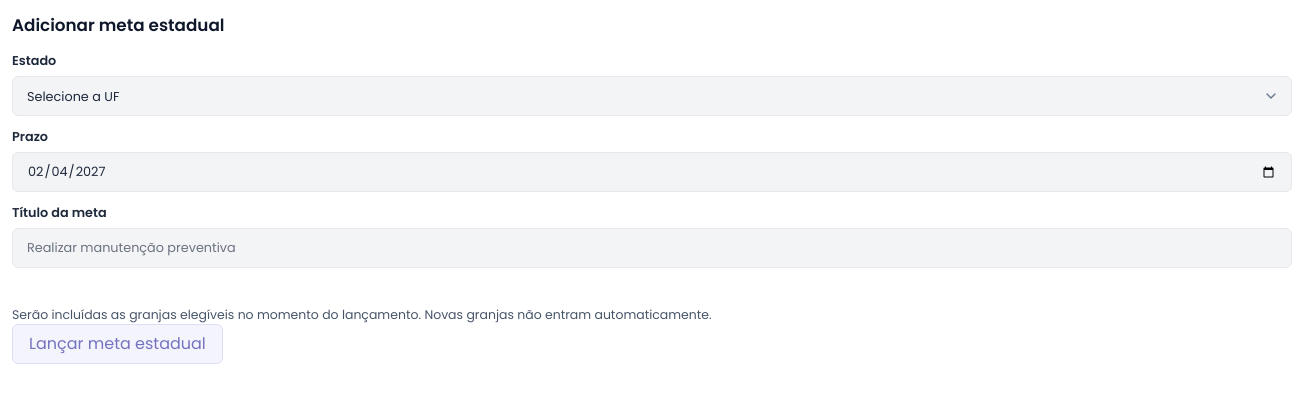
Test: prevê público e informa a quantidade efetivamente vinculada retornada pelo servidor
Step 1. Type "Economizar água" into the field labelled "Título da meta" → (652, 248), box x1=12 y1=228 x2=1292 y2=268
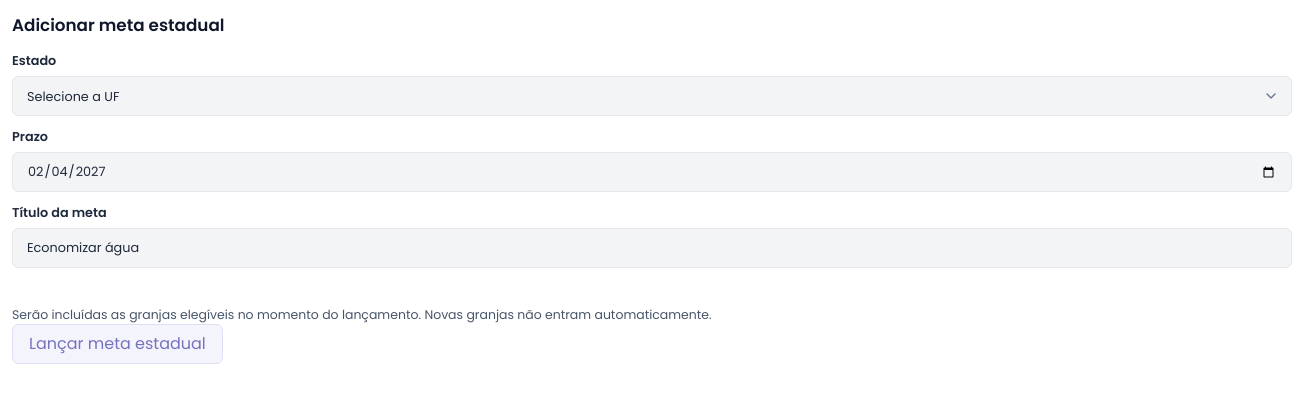
Step 2. Type "2099-01-01" into the date field labelled "Prazo" → (652, 172), box x1=12 y1=152 x2=1292 y2=192
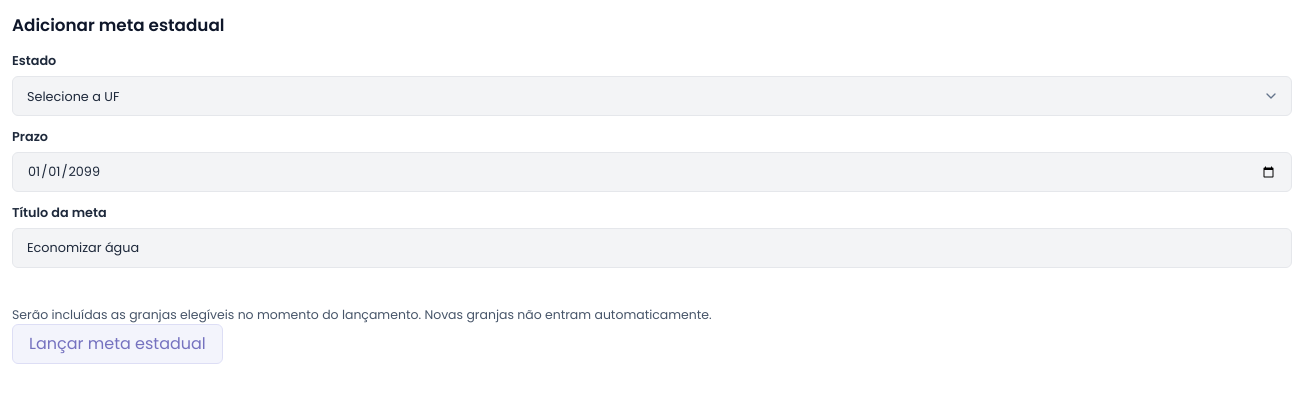
Step 3. Select "São Paulo (SP)" in the dropdown labelled "Estado" → (652, 96), box x1=12 y1=76 x2=1292 y2=116
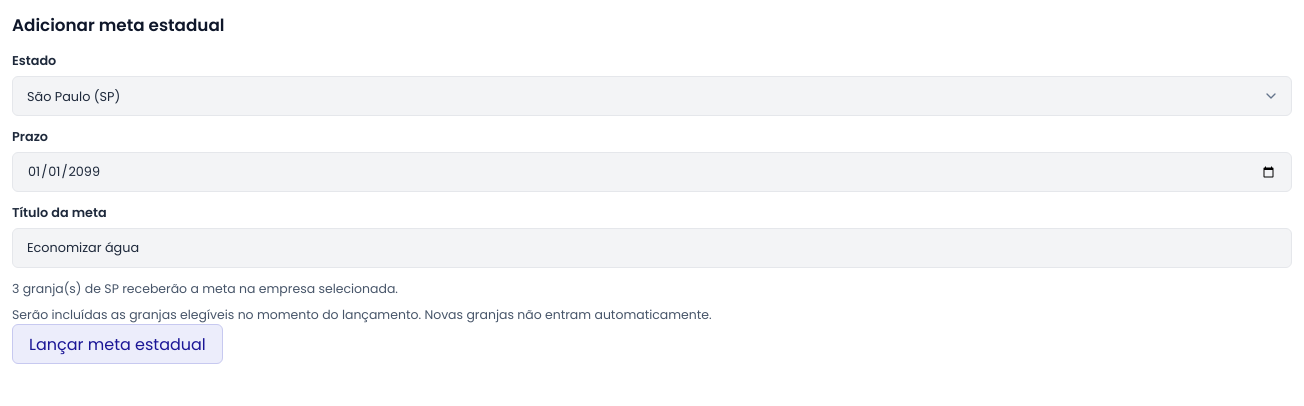
Check: the text "3 granja(s) de SP receberão a meta na empresa selecionada." is shown, box x1=12 y1=280 x2=398 y2=297
Step 4. Click the button "Lançar meta estadual" → (117, 344), box x1=12 y1=324 x2=223 y2=364
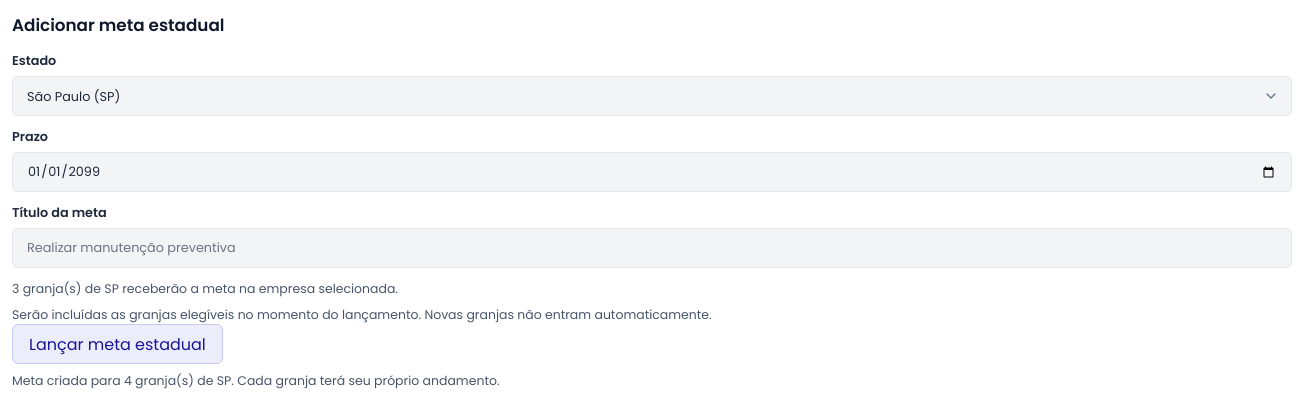
Check: the text "Meta criada para 4 granja(s) de SP. Cada granja terá seu próprio andamento." is shown, box x1=12 y1=372 x2=500 y2=389
